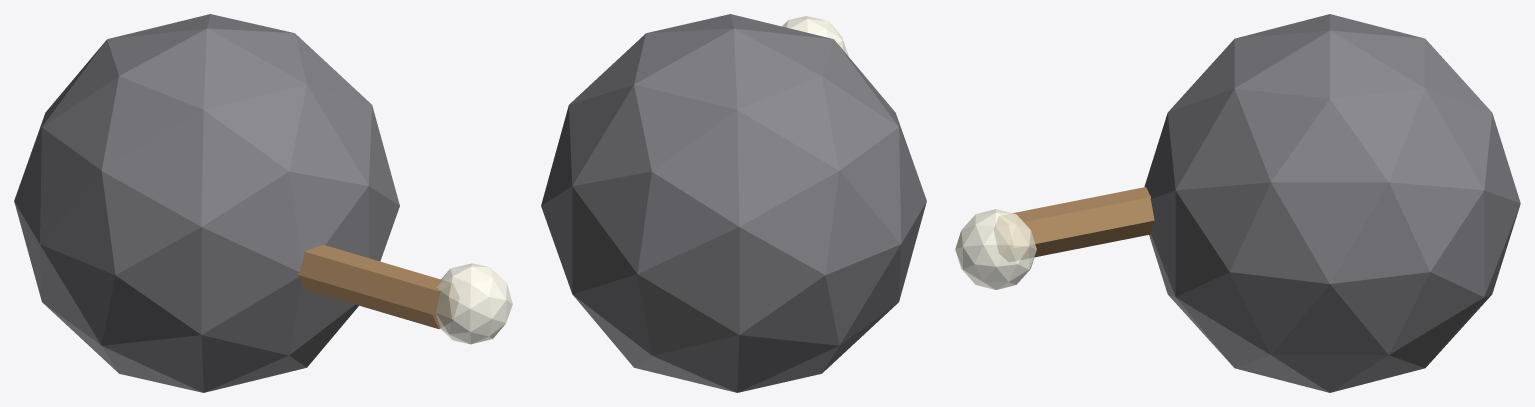
Rendered from grenade_bomb_projectile.glb.
3 views of the same model, side by side, from view 1: azimuth 30°, elevation 25°; view 2: azimuth 150°, elevation 25°; view 3: azimuth 270°, elevation 25° (orthographic).
Parts seen in each view (by area): view 1: bomb_body, fuse, spark; view 2: bomb_body, spark; view 3: bomb_body, fuse, spark.
Boxes of the visible parts, x1,y1,x2,y2 form: bomb_body: [14, 14, 399, 392]; fuse: [297, 244, 459, 328]; spark: [435, 263, 512, 344]; bomb_body: [541, 14, 926, 392]; spark: [782, 16, 848, 56]; bomb_body: [1144, 14, 1520, 392]; fuse: [994, 187, 1154, 261]; spark: [955, 209, 1036, 289].
Size of the model in its own units: 0.56 by 0.56 by 0.83.
